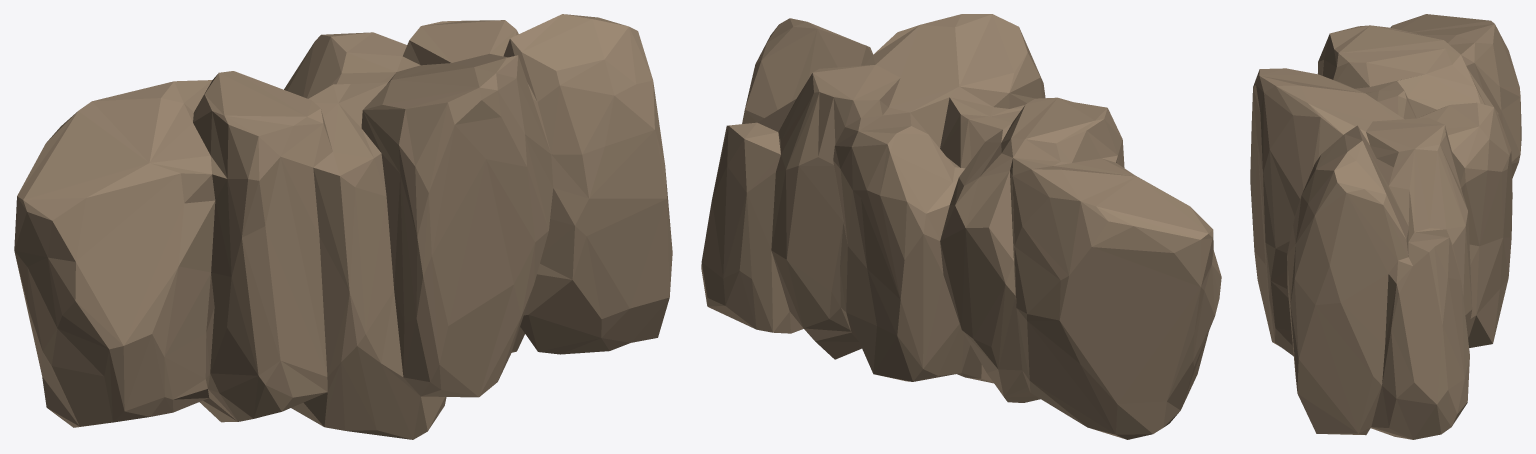
The model's file is SM_Env_Cliff_02.fbx.
3 views of the same model, side by side, from view 1: azimuth 30°, elevation 25°; view 2: azimuth 150°, elevation 25°; view 3: azimuth 270°, elevation 25° (orthographic). The views are drawn at different scales.
Visible parts, largest first — view 1: SM_Env_Cliff_02; view 2: SM_Env_Cliff_02; view 3: SM_Env_Cliff_02.
Part boxes in pixels (x1,y1,x2,y2): SM_Env_Cliff_02: (14,14,672,439); SM_Env_Cliff_02: (701,14,1221,439); SM_Env_Cliff_02: (1250,14,1521,439).
Size of the model in its own units: 2144 by 1236 by 1018.
